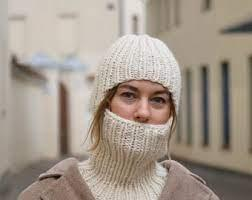cap: (95, 27, 185, 110)
scarf-kerchief: (93, 108, 184, 175)
